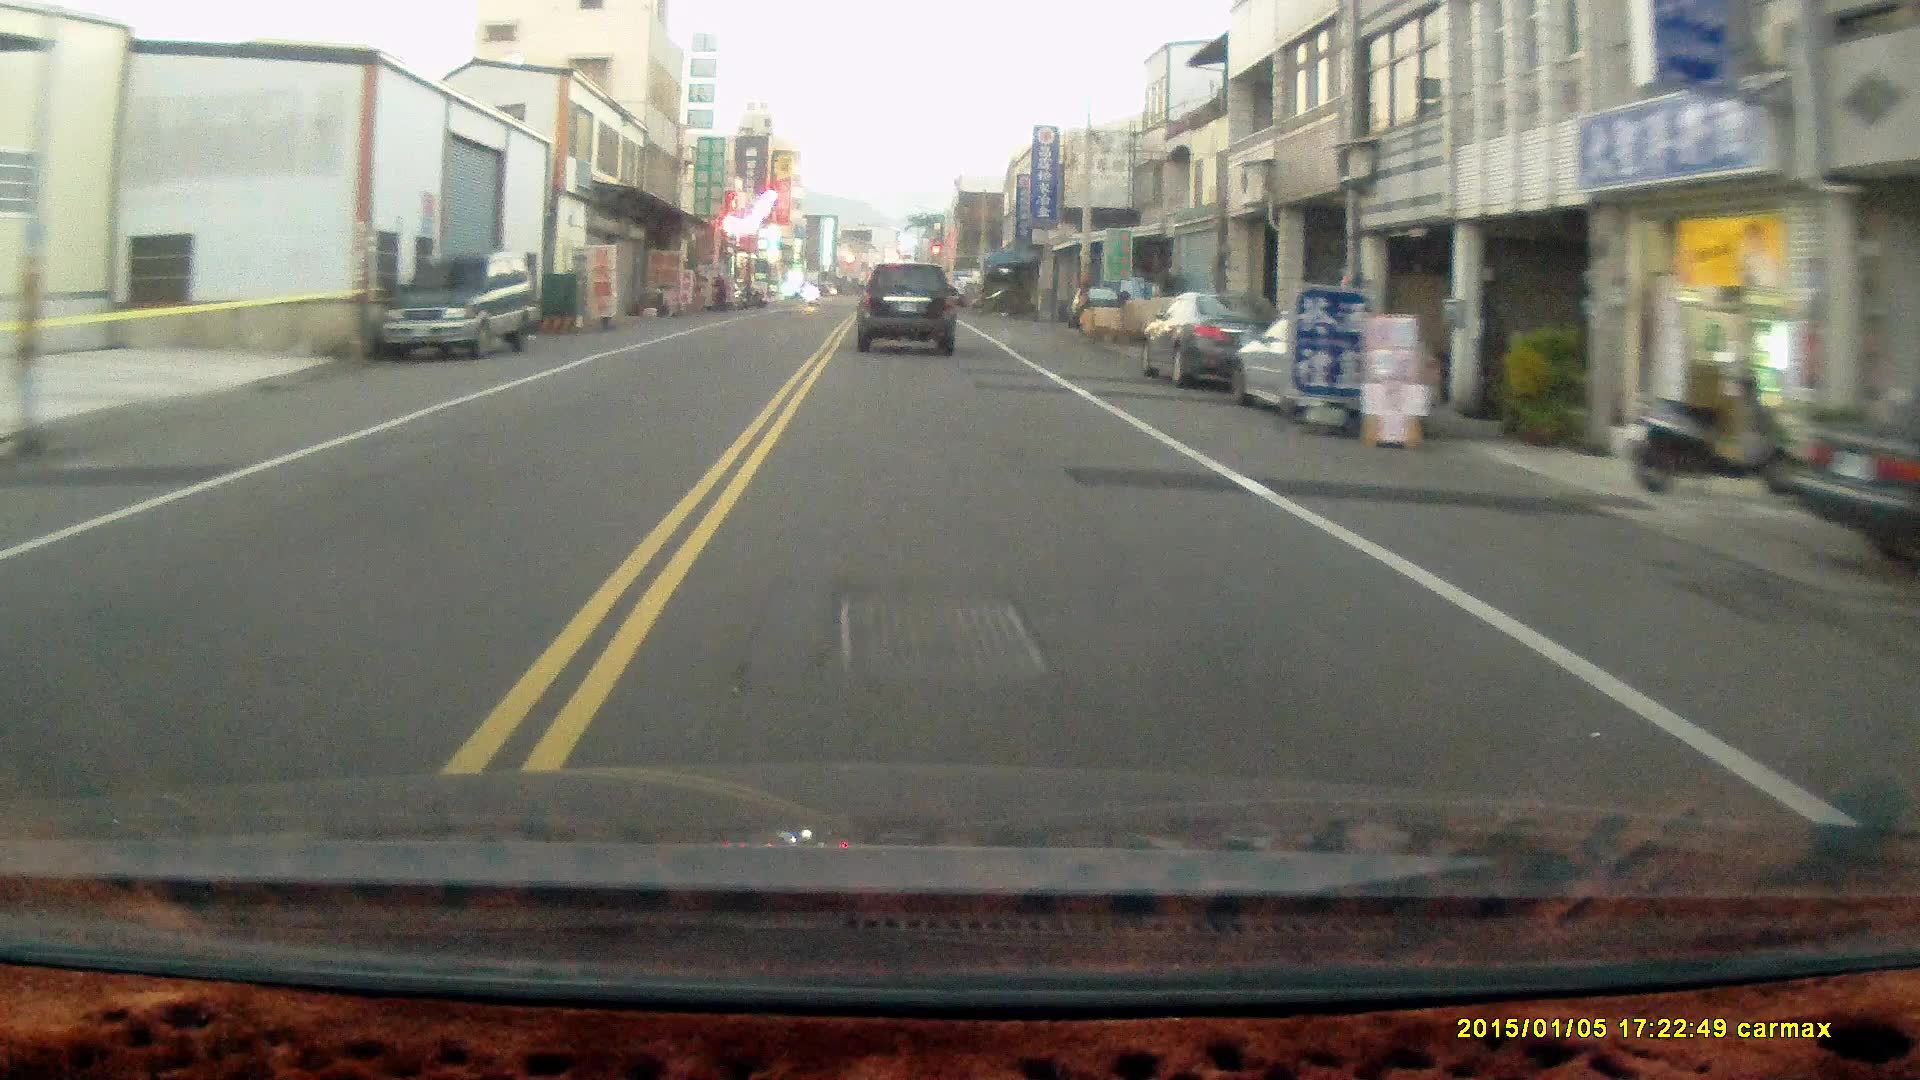vehicle: (1776, 372, 1919, 566), (1232, 314, 1447, 440), (377, 247, 538, 364), (1137, 294, 1296, 396), (856, 266, 959, 363)
